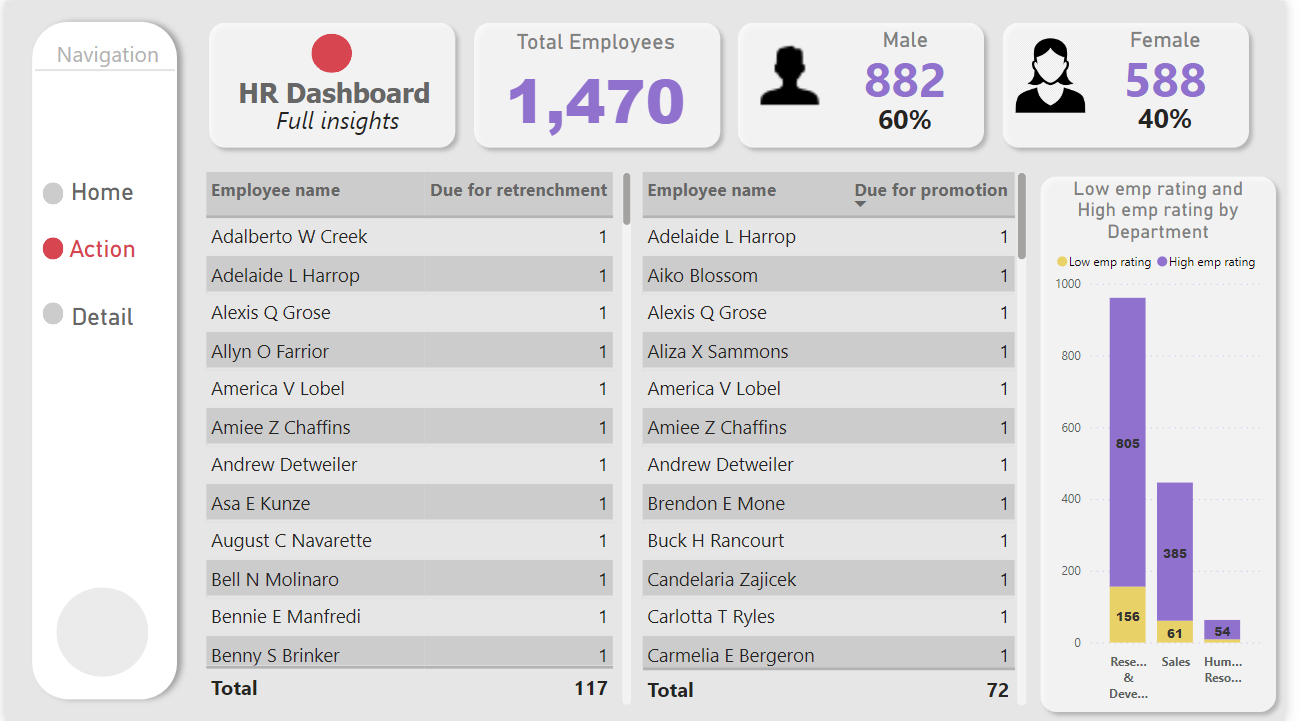

What the dashboard file says about the page in this screenshot:
{"tool":"powerbi","page":{"name":"Action","canvas":[1280,720],"ordinal":2},"visuals":[{"type":"shape","box":[16.5,9.6,166.5,699.2],"z":0},{"type":"shape","box":[195.4,12.4,264.3,143.1],"z":1000},{"type":"shape","box":[459.7,12.4,264.3,143.1],"z":2000},{"type":"shape","box":[724,12.4,264.3,143.1],"z":3000},{"type":"shape","box":[988.2,12.4,264.3,143.1],"z":4000},{"type":"textbox","box":[209.7,71.2,238.7,51.4],"z":5000},{"type":"textbox","box":[36.9,33,130.5,51.4],"z":6000},{"type":"textbox","box":[209.7,97.6,251.9,55.4],"z":7000},{"type":"shape","box":[305.9,33,40.9,39.6],"z":8000},{"type":"card","title":"Total Employees","fields":{"Values":["All Measures.Total Emp"]},"box":[468,27.5,246.4,112.9],"z":9000},{"type":"card","title":"Male","fields":{"Values":["All Measures.Male"]},"box":[814.8,26.2,170.7,75.7],"z":10000},{"type":"card","fields":{"Values":["All Measures.Male %"]},"box":[834.1,90.8,132.1,55.1],"z":11000},{"type":"card","title":"Female","fields":{"Values":["All Measures.Female"]},"box":[1068.7,26.2,183.1,75.7],"z":12000},{"type":"card","fields":{"Values":["All Measures.Female %"]},"box":[1083.9,90.8,152.8,53.7],"z":13000},{"type":"image","box":[736.3,26.2,95,90.8],"z":14000},{"type":"image","box":[1004.7,33,79.8,84],"z":15000},{"type":"tableEx","fields":{"Values":["HR employee data.Emplyee name","All Measures.Due for retirment"]},"box":[195.4,166.5,436.3,542.3],"z":16000},{"type":"tableEx","fields":{"Values":["HR employee data.Emplyee name","All Measures.Due for promotion"]},"box":[631.2,166.2,395,543.8],"z":17000},{"type":"shape","box":[36.9,300.7,21.1,22.4],"z":18000},{"type":"actionButton","title":"Detail","box":[27.7,300.7,139.8,58],"z":19000},{"type":"shape","box":[36.9,236,21.1,22.4],"z":20000},{"type":"actionButton","title":"Action","box":[27.7,233.4,139.8,65.9],"z":21000},{"type":"shape","box":[36.9,180.7,21.1,22.4],"z":22000},{"type":"actionButton","title":"Home","box":[27.7,176.7,139.8,56.7],"z":23000},{"type":"shape","box":[51.4,586.8,92.3,89.7],"z":24000},{"type":"shape","box":[30.2,61.6,140.1,15.7],"z":25000},{"type":"shape","box":[1026.2,166.2,253.8,553.8],"z":26000},{"type":"columnChart","fields":{"Category":["HR Analytics Data.Department"],"Y":["All Measures.Low emp rating","All Measures.High emp rating"]},"box":[1045,176.2,216.2,532.5],"z":27000},{"type":"actionButton","box":[30,166.2,117.5,51.2],"z":27001},{"type":"actionButton","box":[30,285,117.5,51.2],"z":27002}]}

Visuals, with their boxes in screenshot pixels (x1, y1, x2, y2), scaled from the page's 1280x720 canvas onto the 1314x721 screenshot:
shape: bbox(17, 10, 188, 710)
shape: bbox(201, 12, 472, 156)
shape: bbox(472, 12, 743, 156)
shape: bbox(743, 12, 1015, 156)
shape: bbox(1014, 12, 1286, 156)
textbox: bbox(215, 71, 460, 123)
textbox: bbox(38, 33, 172, 85)
textbox: bbox(215, 98, 474, 153)
shape: bbox(314, 33, 356, 73)
"Total Employees" card: bbox(480, 28, 733, 141)
"Male" card: bbox(836, 26, 1012, 102)
card - All Measures.Male %: bbox(856, 91, 992, 146)
"Female" card: bbox(1097, 26, 1285, 102)
card - All Measures.Female %: bbox(1113, 91, 1270, 145)
image: bbox(756, 26, 853, 117)
image: bbox(1031, 33, 1113, 117)
tableEx - HR employee data.Emplyee name x All Measures.Due for retirment: bbox(201, 167, 648, 710)
tableEx - HR employee data.Emplyee name x All Measures.Due for promotion: bbox(648, 166, 1053, 711)
shape: bbox(38, 301, 60, 324)
"Detail" actionButton: bbox(28, 301, 172, 359)
shape: bbox(38, 236, 60, 259)
"Action" actionButton: bbox(28, 234, 172, 300)
shape: bbox(38, 181, 60, 203)
"Home" actionButton: bbox(28, 177, 172, 234)
shape: bbox(53, 588, 148, 677)
shape: bbox(31, 62, 175, 77)
shape: bbox(1053, 166, 1313, 720)
columnChart - HR Analytics Data.Department x All Measures.Low emp rating: bbox(1073, 176, 1295, 710)
actionButton: bbox(31, 166, 151, 218)
actionButton: bbox(31, 285, 151, 337)
